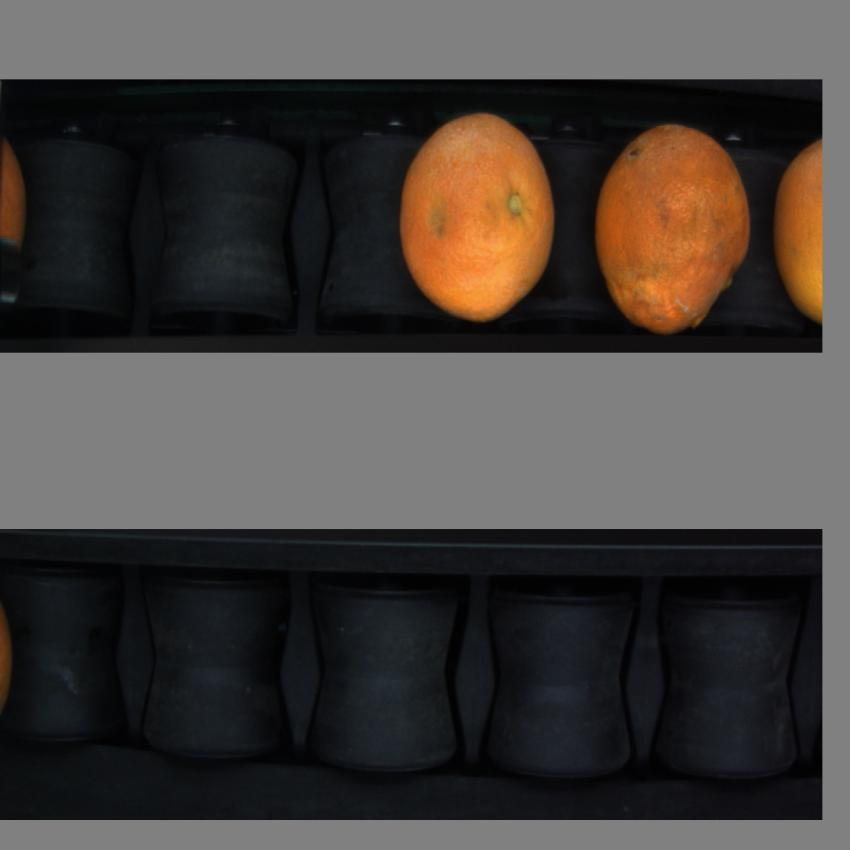Buen estado: (393, 106, 561, 324), (774, 125, 822, 330)
Mal estado: (591, 117, 753, 334)
